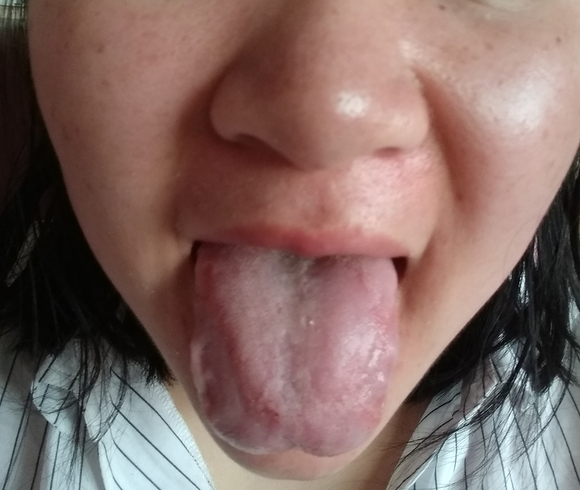baitaishe: (191, 242, 398, 457)
chihenshe: (192, 333, 224, 436)
xinfeiao: (257, 435, 328, 457)
